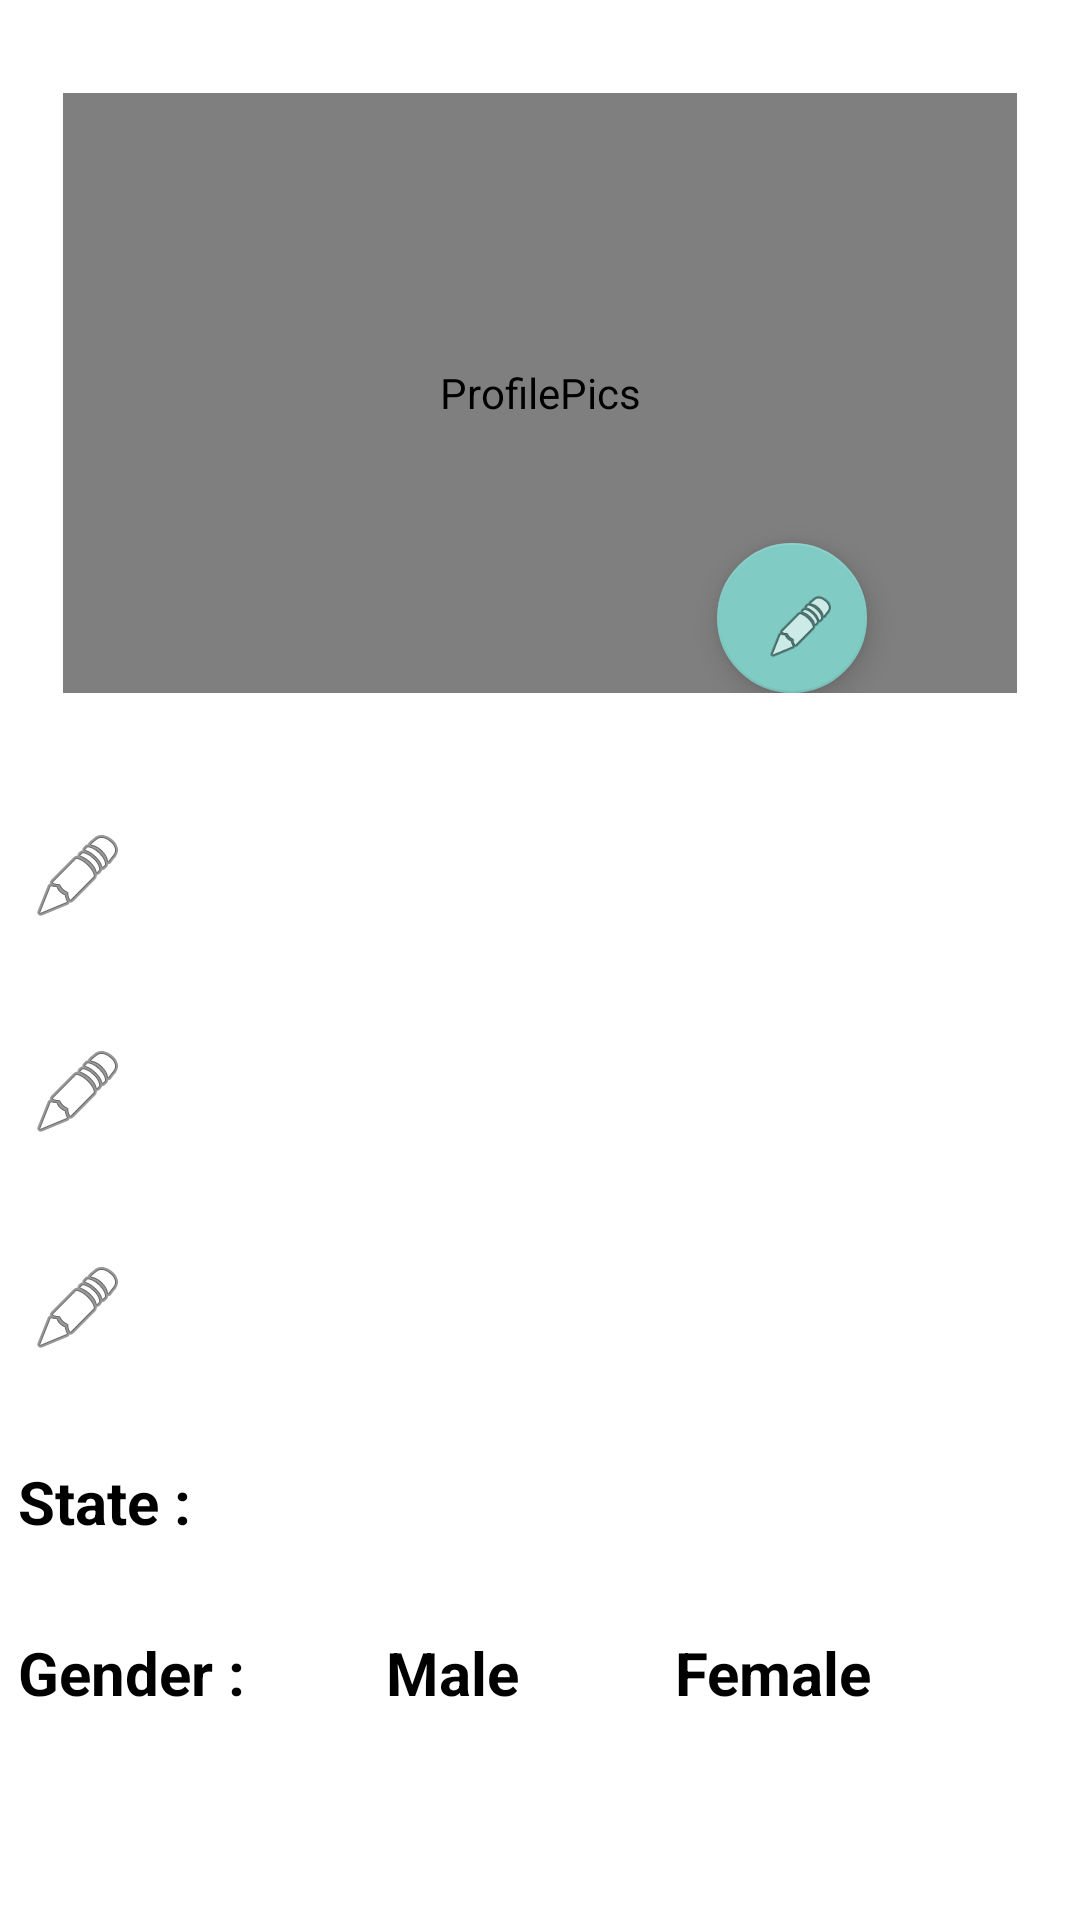

Icon click points for this 1080*1920 phone screenshot, format (x,y):
edit: (792,618)
